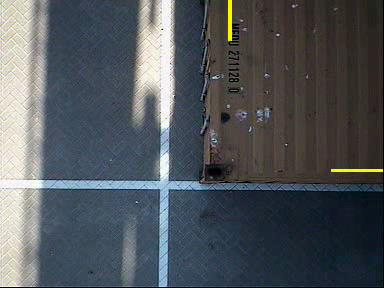groundmarker_2: (115, 176, 201, 229)
